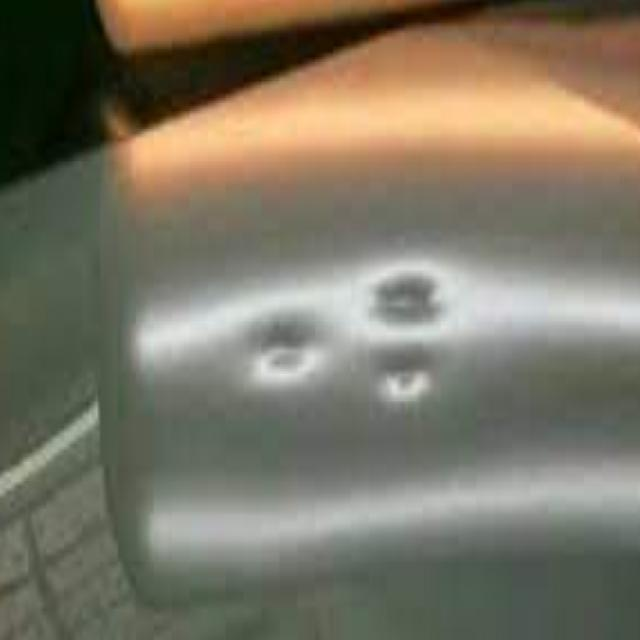dents: (246, 288, 328, 407), (362, 247, 452, 337), (370, 260, 447, 336), (376, 367, 438, 412)
